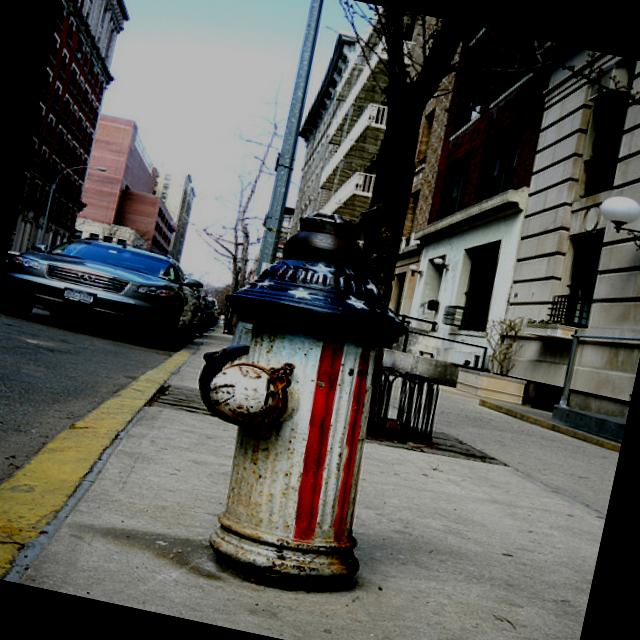Vehicle: (0, 220, 208, 352)
